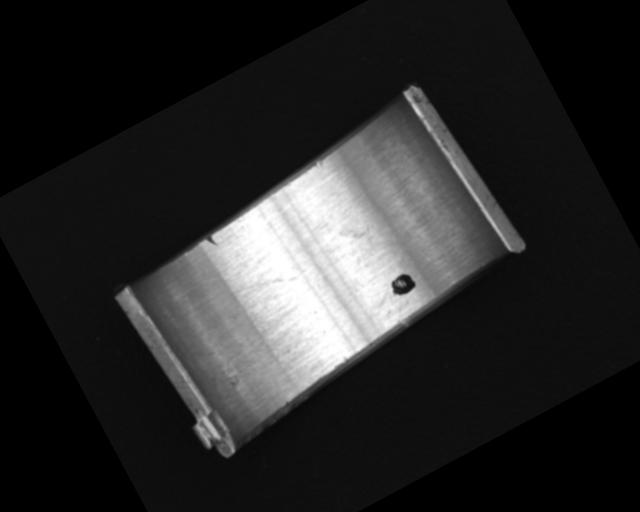blot: (335, 207, 403, 271), (385, 268, 419, 300)
bruise: (204, 233, 219, 250), (313, 157, 325, 168)
